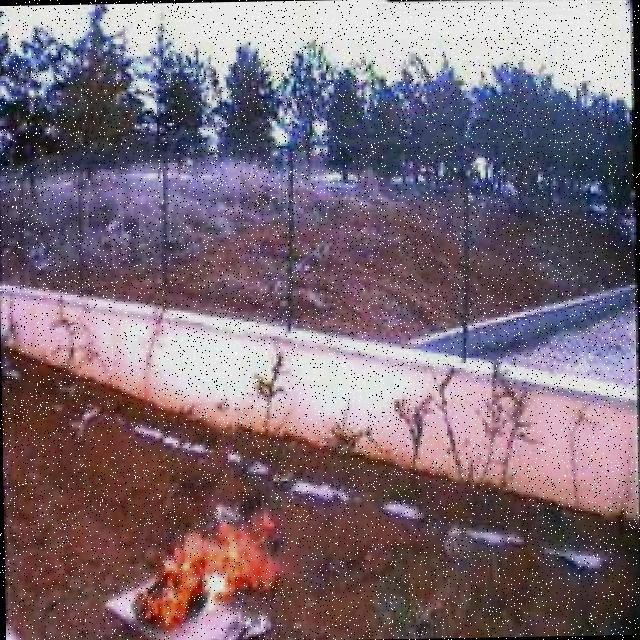Fire: (131, 511, 280, 630)
